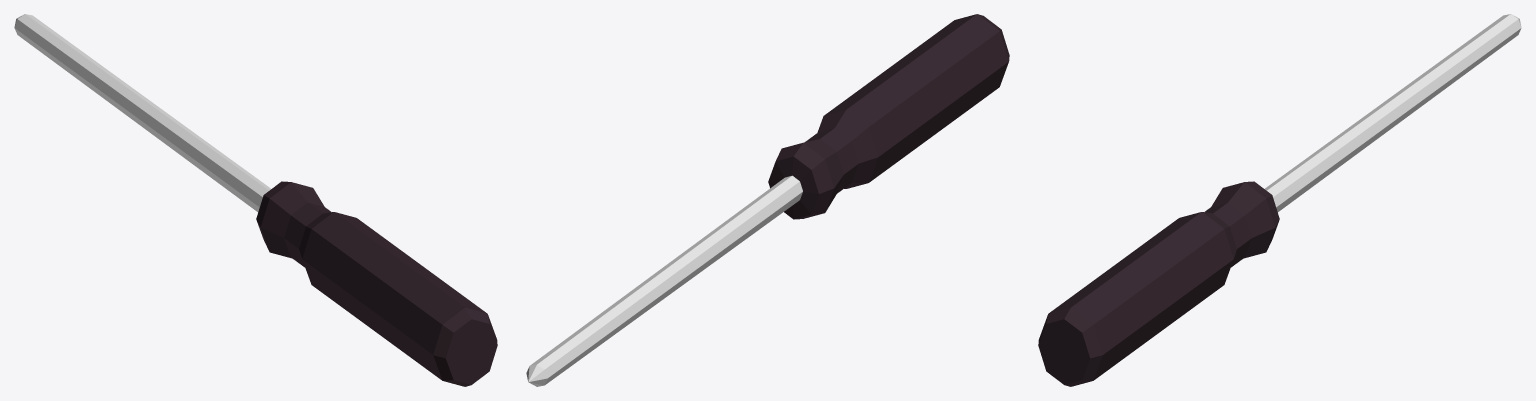
File: Screwdriver_03.fbx
3 renders of one model, left to right at view 1: azimuth 30°, elevation 25°; view 2: azimuth 150°, elevation 25°; view 3: azimuth 330°, elevation 25°, orthographic.
Parts seen in each view (by area): view 1: Screwdriver_03; view 2: Screwdriver_03; view 3: Screwdriver_03.
Part boxes in pixels (box(x1,y1,x2,y2)): Screwdriver_03: box(14, 14, 497, 386); Screwdriver_03: box(526, 14, 1009, 386); Screwdriver_03: box(1038, 14, 1521, 386).
Size of the model in its own units: 5.95 by 7.05 by 73.39.
